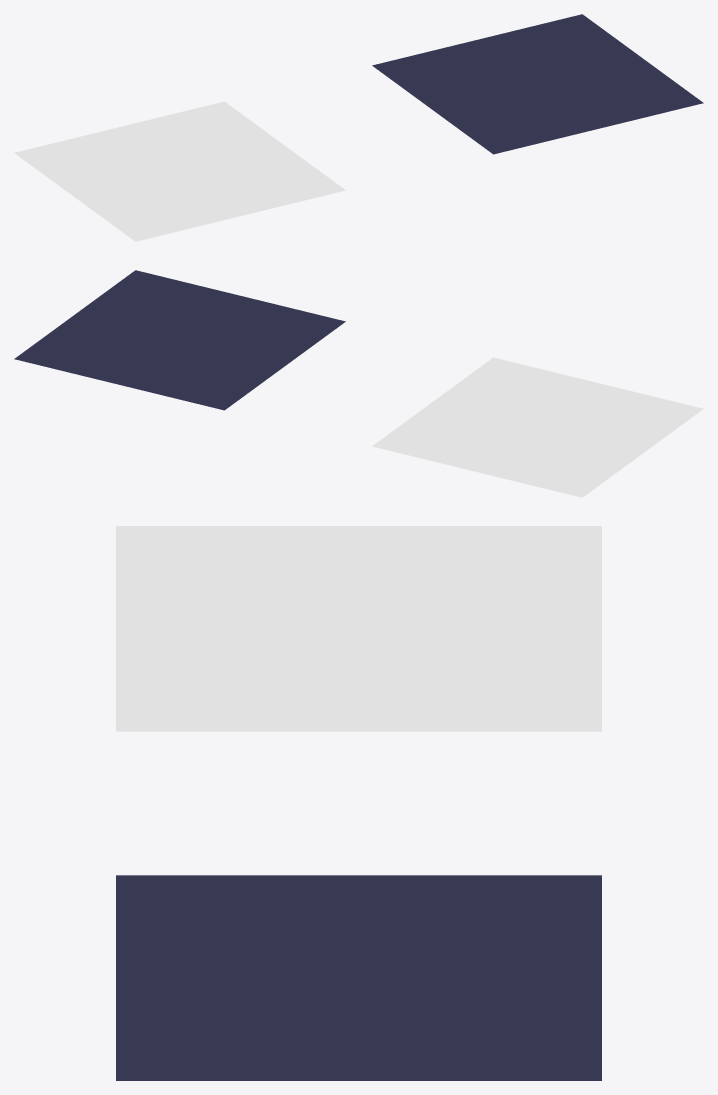
Rendered from White_Blue.fbx.
3 views of the same model, one above another, from view 1: azimuth 30°, elevation 25°; view 2: azimuth 150°, elevation 25°; view 3: azimuth 270°, elevation 25° (orthographic). The views are drawn at different scales.
Parts seen in each view (by area): view 1: Blue, White; view 2: Blue, White; view 3: Blue, White.
Boxes of the visible parts, box(x1,y1,x2,y2) form: Blue: box(372, 14, 703, 154); White: box(14, 101, 345, 241); Blue: box(14, 270, 345, 410); White: box(372, 357, 703, 497); Blue: box(116, 875, 601, 1080); White: box(116, 526, 601, 731).
Size of the model in its own units: 540 by 3.26e-05 by 200.
